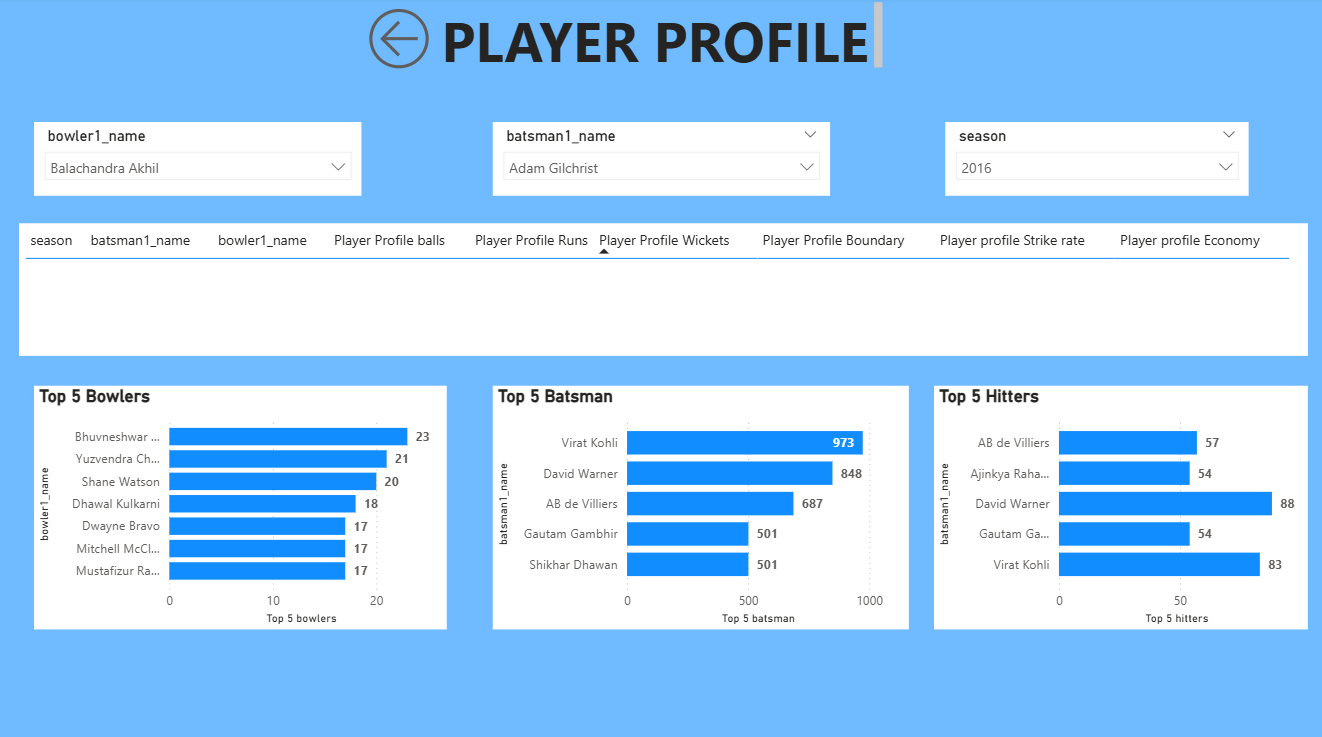

The dashboard page shown, as its layout file describes it:
{"tool":"powerbi","page":{"name":"Player Profile","canvas":[1280,720],"ordinal":3},"visuals":[{"type":"textbox","box":[422.3,0,435.5,77.2],"z":0},{"type":"actionButton","box":[349.9,0,72.4,79.6],"z":1000},{"type":"slicer","fields":{"Values":["all_season_details.season"]},"box":[913.3,120.6,293.2,71.2],"z":2000},{"type":"slicer","fields":{"Values":["all_season_details.batsman1_name"]},"box":[476.5,120.6,325.7,71.2],"z":3000},{"type":"slicer","fields":{"Values":["all_season_details.bowler1_name"]},"box":[33.8,120.6,316.1,71.2],"z":4000},{"type":"tableEx","fields":{"Values":["all_season_details.season","all_season_details.batsman1_name","all_season_details.bowler1_name","all_season_details.Player Profile runs","all_season_details.Player Profile Runs","all_season_details.Player Profile Wickets","all_season_details.Player Profile Boundary","all_season_details.Player profile Strike rate","all_season_details.Player profile Economy"]},"box":[19.3,218.4,1243.8,127.9],"z":5000},{"type":"clusteredBarChart","title":"Top 5 Bowlers","fields":{"Category":["all_season_details.bowler1_name"],"Y":["all_season_bowling_card.Top 5 bowlers"]},"box":[33.8,375.2,398.1,235.3],"z":6000},{"type":"clusteredBarChart","title":"Top 5 Batsman ","fields":{"Category":["all_season_details.batsman1_name"],"Y":["all_season_batting_card.Top 5 batsman"]},"box":[476.5,375.2,401.7,235.3],"z":7000},{"type":"clusteredBarChart","title":"Top 5 Hitters ","fields":{"Category":["all_season_details.batsman1_name"],"Y":["all_season_batting_card.Top 5 hitters"]},"box":[902.4,375.2,360.7,235.3],"z":8000}]}

Visuals, with their boxes in screenshot pixels (x1, y1, x2, y2), scaled from the page's 1280x720 canvas onto the 1322x737 screenshot:
textbox: 436/0/886/79
actionButton: 361/0/436/81
slicer - all_season_details.season: 943/123/1246/196
slicer - all_season_details.batsman1_name: 492/123/829/196
slicer - all_season_details.bowler1_name: 35/123/361/196
tableEx - all_season_details.season x all_season_details.batsman1_name: 20/224/1305/354
"Top 5 Bowlers" clusteredBarChart: 35/384/446/625
"Top 5 Batsman " clusteredBarChart: 492/384/907/625
"Top 5 Hitters " clusteredBarChart: 932/384/1305/625
